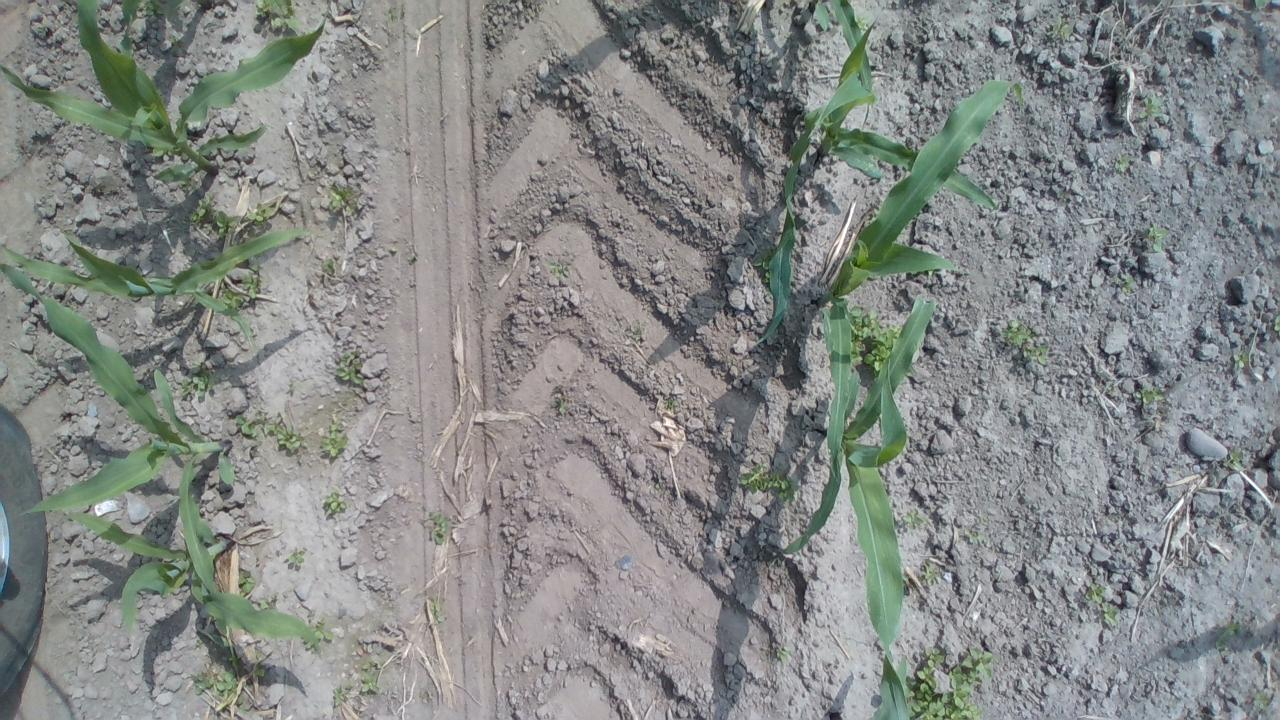Maize: (774, 68, 1020, 567), (1, 260, 268, 627), (746, 0, 996, 352), (794, 290, 948, 720), (0, 3, 330, 184), (49, 490, 328, 664), (5, 216, 312, 340)
Weeds: (902, 643, 994, 720), (186, 653, 260, 712), (228, 406, 308, 456), (736, 461, 801, 502), (218, 266, 268, 318), (185, 191, 240, 237), (861, 319, 904, 372), (1006, 319, 1050, 368), (174, 358, 222, 402), (250, 0, 308, 35), (1075, 582, 1121, 620), (329, 348, 370, 390), (323, 178, 361, 222), (316, 414, 354, 458), (844, 302, 878, 348), (294, 618, 338, 653), (316, 487, 352, 518), (1212, 618, 1242, 655), (1130, 379, 1166, 409), (425, 507, 451, 548), (916, 556, 950, 587), (751, 247, 777, 287), (891, 504, 925, 534), (1248, 689, 1278, 720), (1109, 268, 1140, 298), (355, 662, 381, 696), (246, 204, 276, 233), (1136, 92, 1161, 126), (1229, 342, 1257, 371), (1046, 14, 1074, 43), (1140, 222, 1166, 253), (424, 596, 450, 626), (548, 386, 572, 417), (544, 255, 573, 280), (626, 314, 650, 344), (318, 252, 342, 280), (284, 546, 312, 570), (329, 680, 349, 710), (233, 574, 261, 594), (1109, 152, 1131, 177), (962, 528, 989, 548), (1218, 448, 1246, 467), (771, 640, 792, 662), (850, 12, 869, 34), (652, 476, 670, 496), (660, 397, 680, 411)
